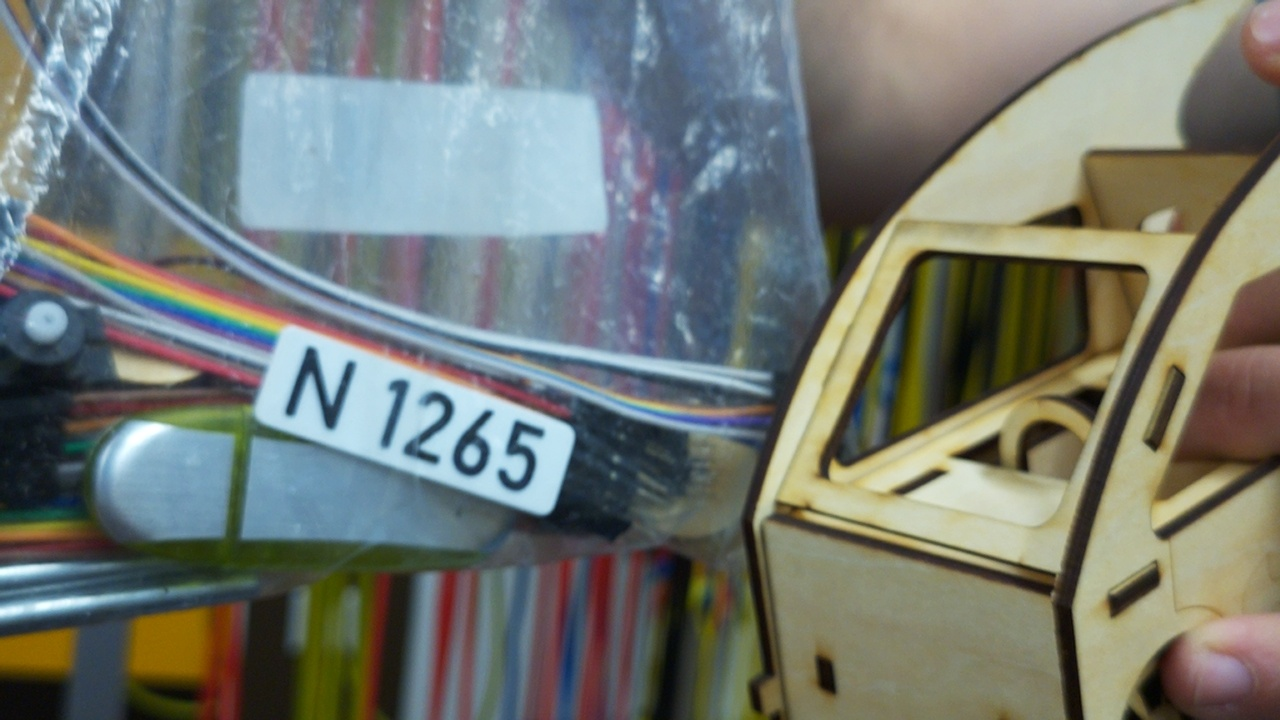license_plate: (251, 319, 578, 520)
